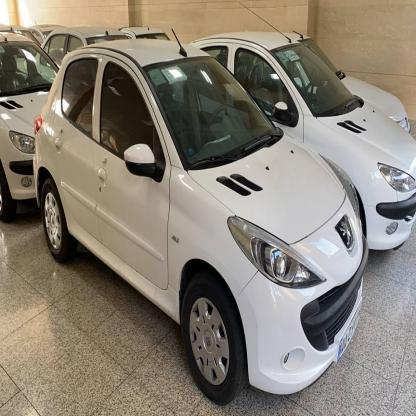Car: (41, 44, 353, 399), (213, 29, 416, 253), (0, 25, 54, 218), (335, 60, 410, 148)
